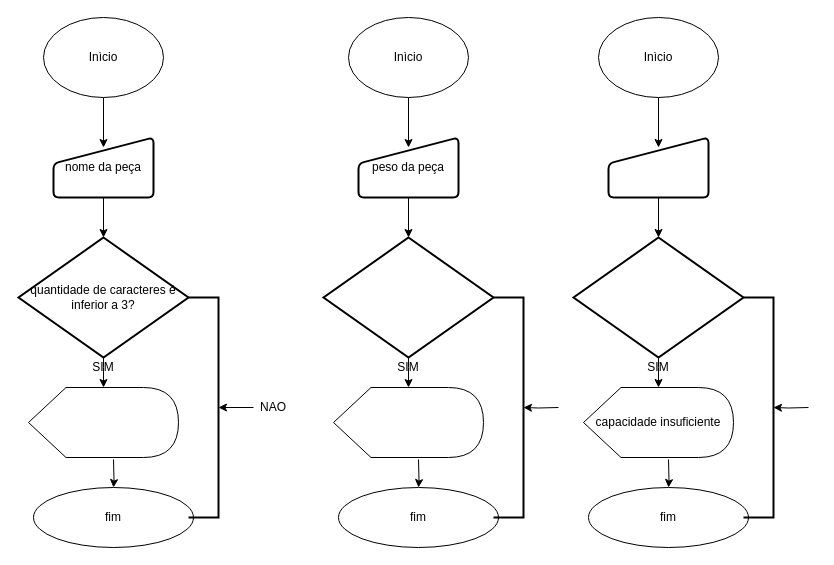
The diagram is 834 pixels wide and 565 high, and some of its shapes have lost their labels. The shapes that lost their labels are listed below. From the top down, each one's centre as x and y in pixels, then its label:
At point 658,167: "quantidade daepeçaa".
At point 408,297: "peso e superior a 100gr".
At point 658,297: "quantidade e maior que 10?".
At point 103,422: "msg de erro".
At point 408,422: "cadastrar".
